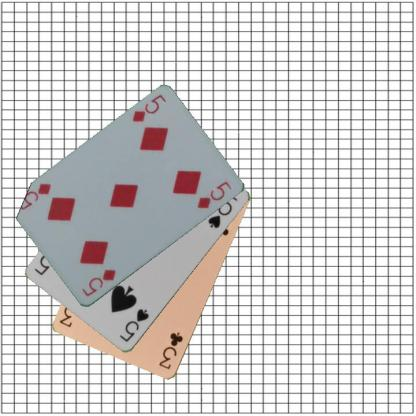3c: (156, 329, 185, 371)
5d: (79, 267, 117, 299), (129, 92, 167, 124)
5s: (117, 306, 151, 344)
